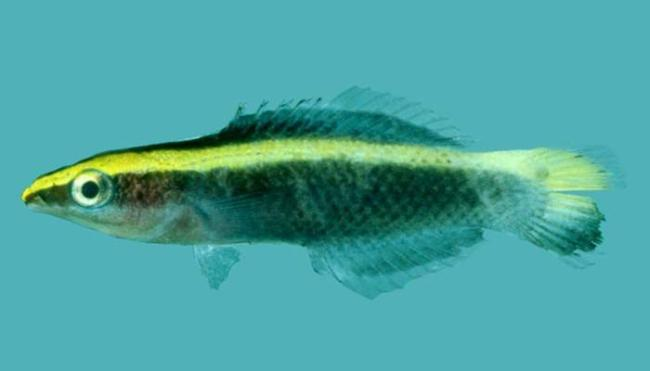fish: (22, 85, 626, 302)
